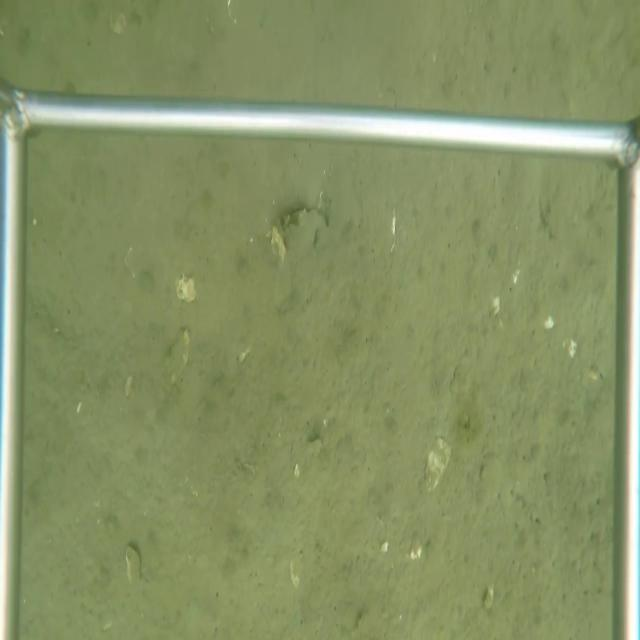Oyster-Indeterminate: (276, 200, 329, 257)
